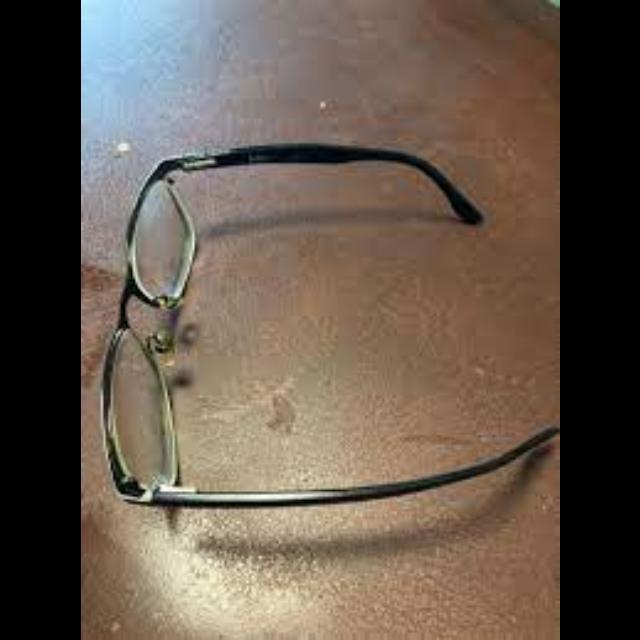glasses: (97, 142, 559, 506)
